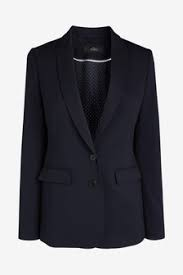F_W_suit jacket: (13, 17, 173, 252)
